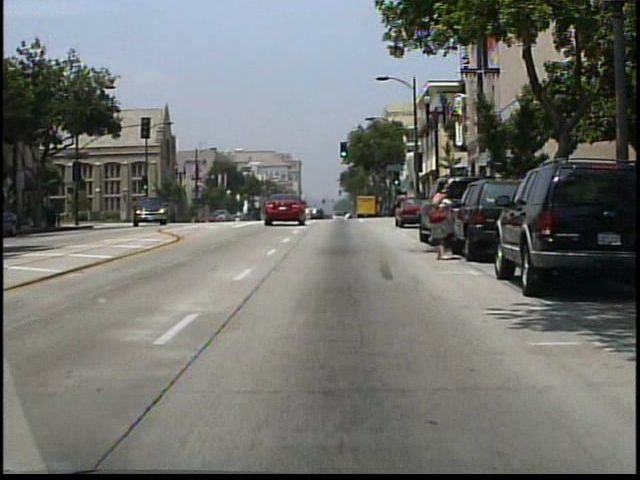person: (424, 180, 464, 263)
